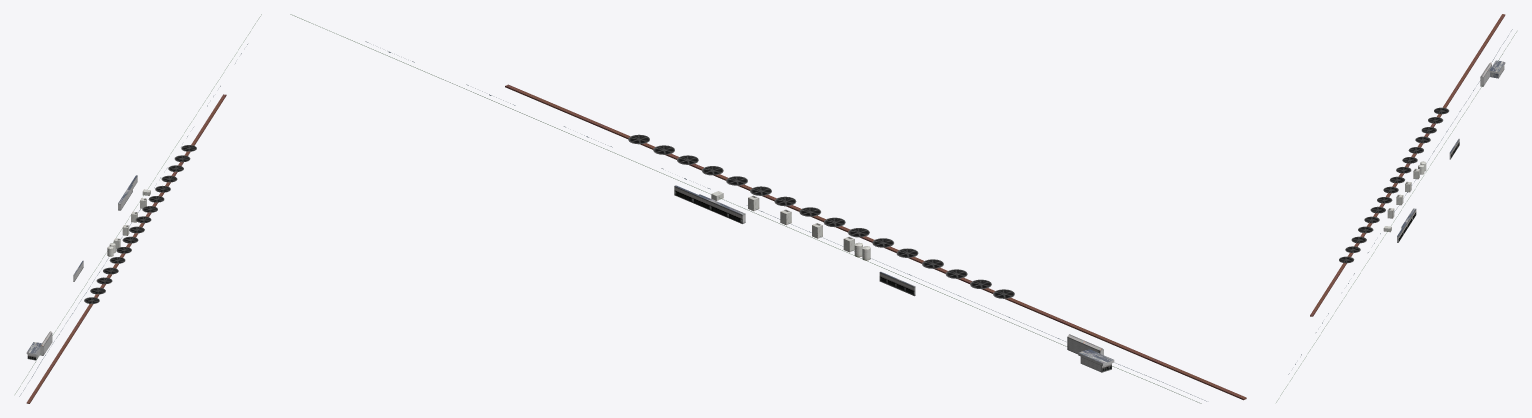
The model's file is vidp_hvac.glb.
3 views of the same model, side by side, from view 1: azimuth 90°, elevation 25°; view 2: azimuth 150°, elevation 25°; view 3: azimuth 270°, elevation 25° (orthographic). The views are drawn at different scales.
Parts seen in each view (by area): view 1: Cylinder.031, Cube, Cube.003, Cylinder.032; view 2: Cylinder.031, Cube, Cube.003, Cylinder.032; view 3: Cylinder.031, Cube, Cube.003, Cylinder.032.
Boxes of the visible parts, x1,y1,x2,y2 form: Cylinder.031: [84, 145, 196, 303]; Cube: [26, 94, 226, 403]; Cube.003: [26, 175, 137, 360]; Cylinder.032: [107, 189, 150, 256]; Cylinder.031: [628, 134, 1014, 298]; Cube: [505, 84, 1246, 400]; Cube.003: [674, 185, 1114, 372]; Cylinder.032: [711, 191, 870, 260]; Cylinder.031: [1339, 107, 1449, 263]; Cube: [1310, 14, 1505, 316]; Cube.003: [1397, 60, 1505, 242]; Cylinder.032: [1383, 161, 1426, 232].
Size of the model in its own units: 447 by 5.82 by 119.
9 materials, 9 textured.
